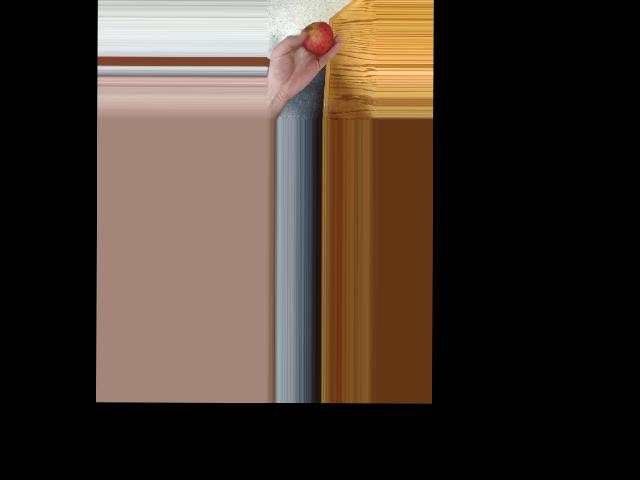apple: (300, 20, 332, 55)
